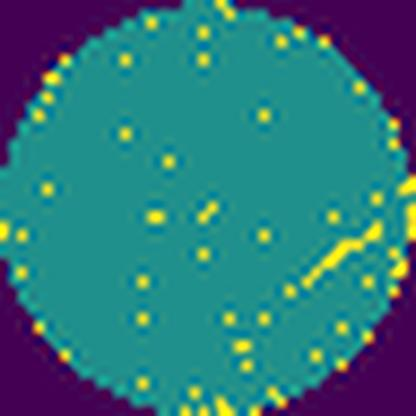Scratch: (298, 213, 386, 299)
